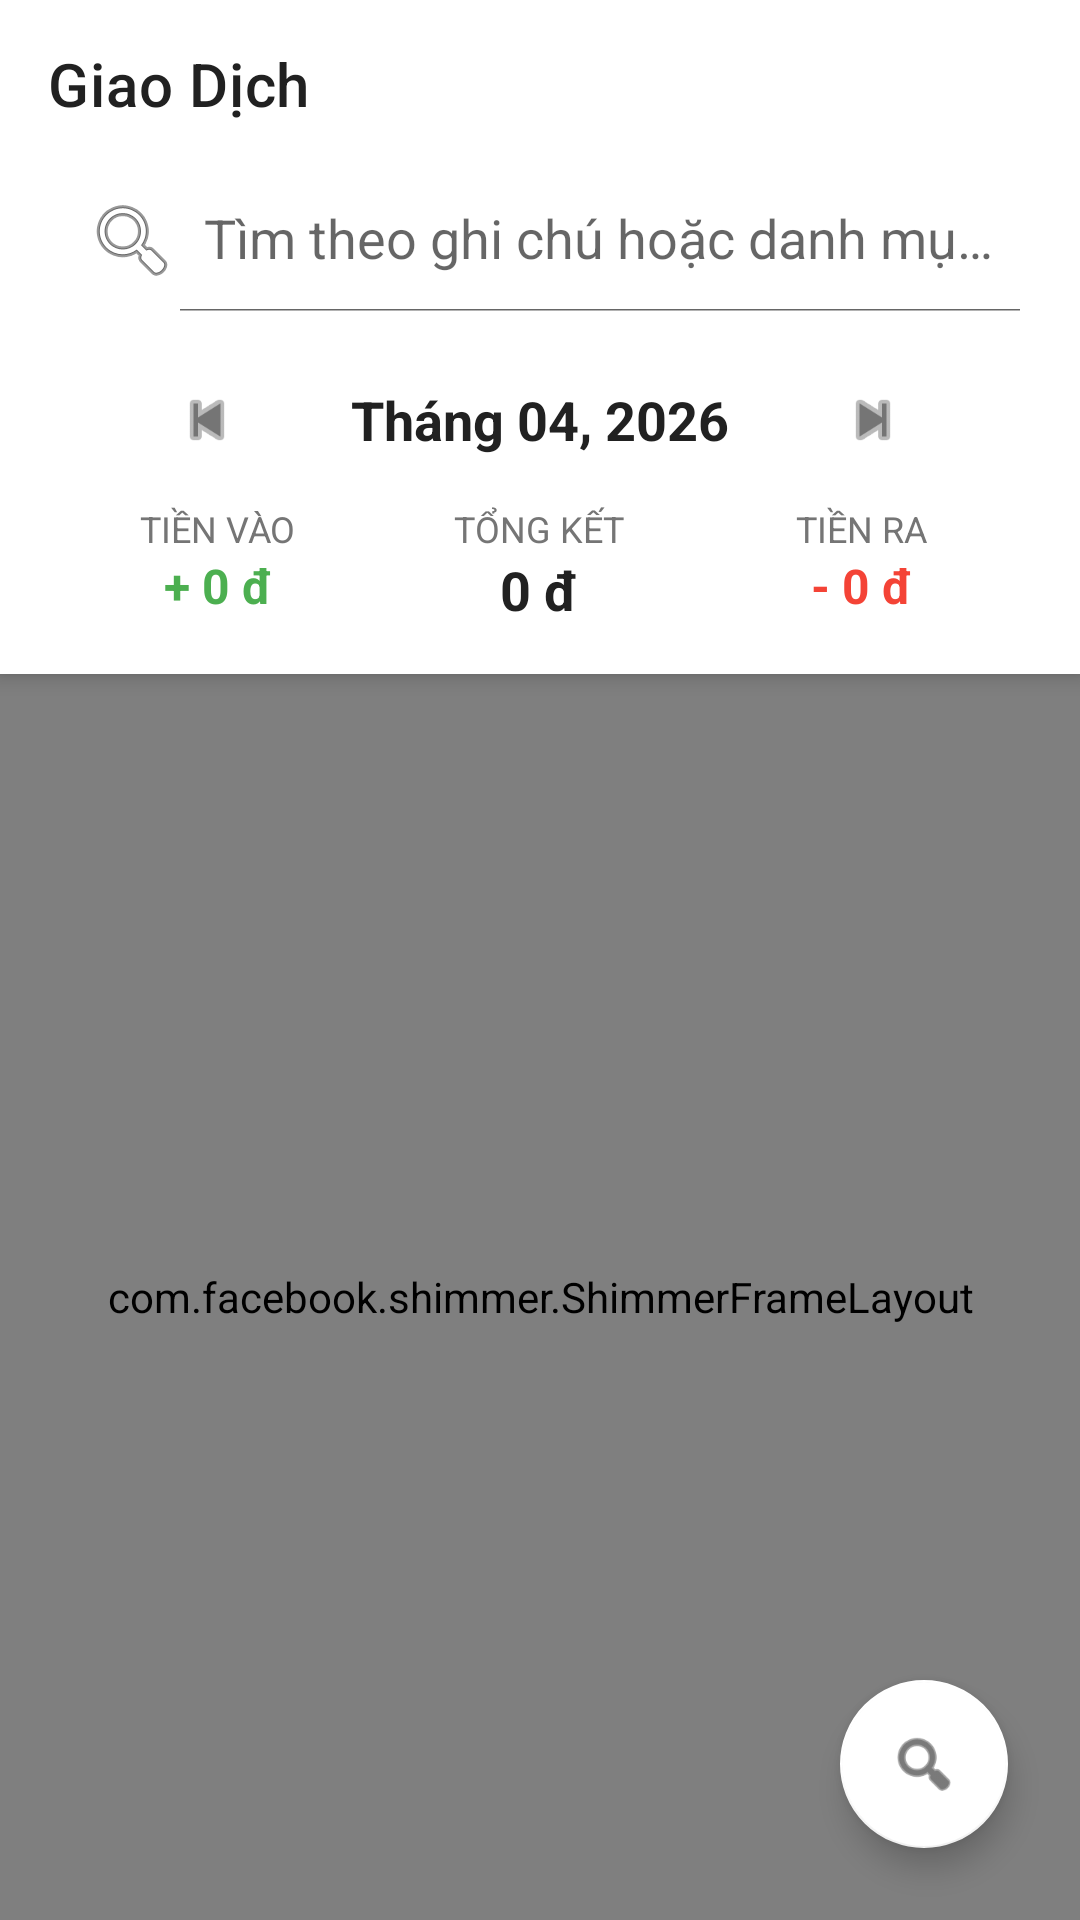

Screen size 1080 x 1920. Icon name, then its center in pixels as point (x, y):
next: point (873, 420)
previous: point (207, 420)
